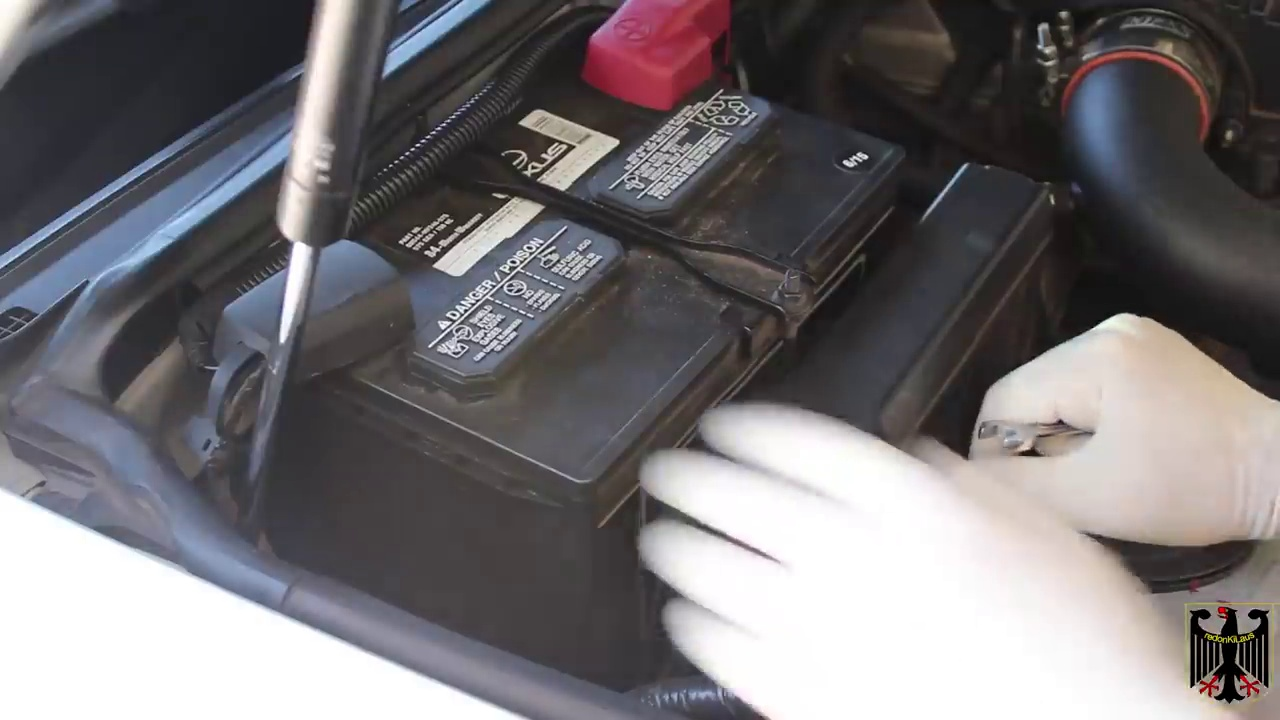battery: (249, 3, 906, 509)
pos_connected: (539, 7, 799, 117)
